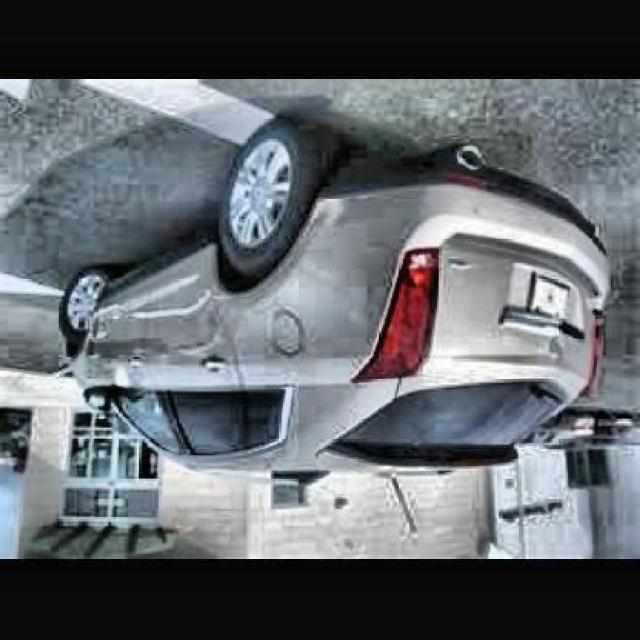silver: (58, 125, 615, 478)
